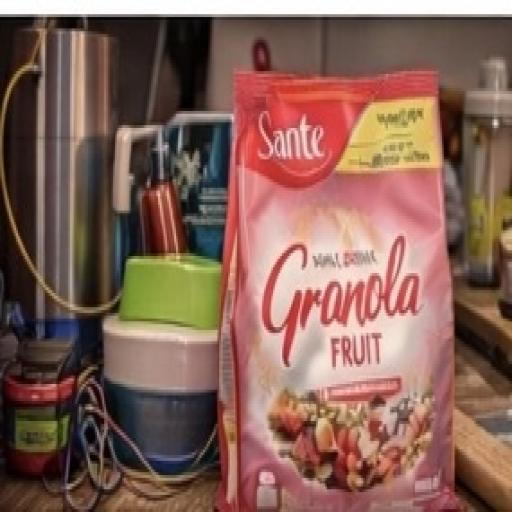granola: (206, 42, 493, 512)
